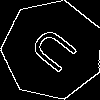U: (27, 25, 87, 81)
